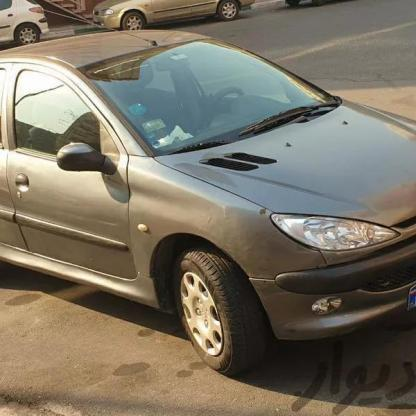Car: (0, 30, 416, 360), (66, 0, 274, 30), (0, 0, 71, 57)
